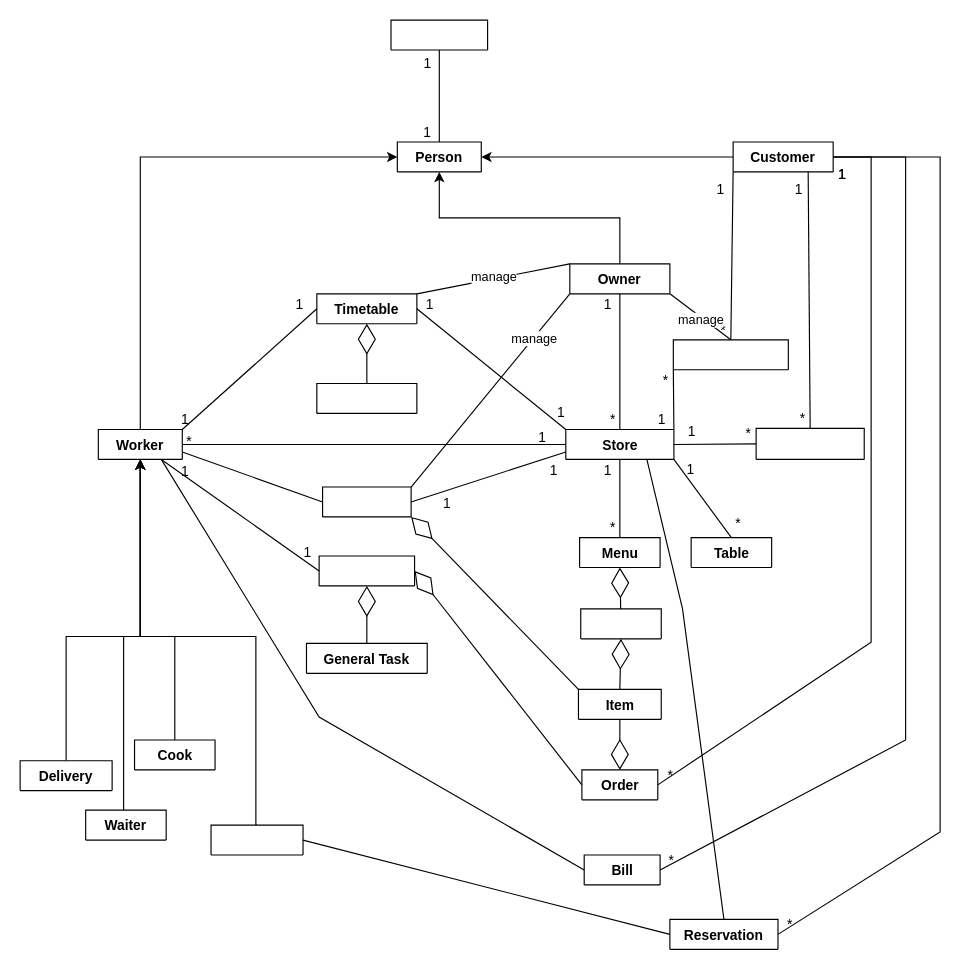
Some shapes in this 961 by 969 pixel diagram are drawn without their labels. The shapes that lost their labels are listed below. From the top down, each one's box as (x1, y1, x2, y2) in pixels, then its label:
(390, 19, 488, 50): Account
(672, 339, 788, 370): Subscription
(316, 382, 417, 413): Event
(755, 427, 864, 459): Store Rating
(321, 486, 411, 517): Storage
(318, 555, 415, 586): Todo List
(580, 608, 661, 639): Menu Item
(210, 824, 303, 855): Cashier
